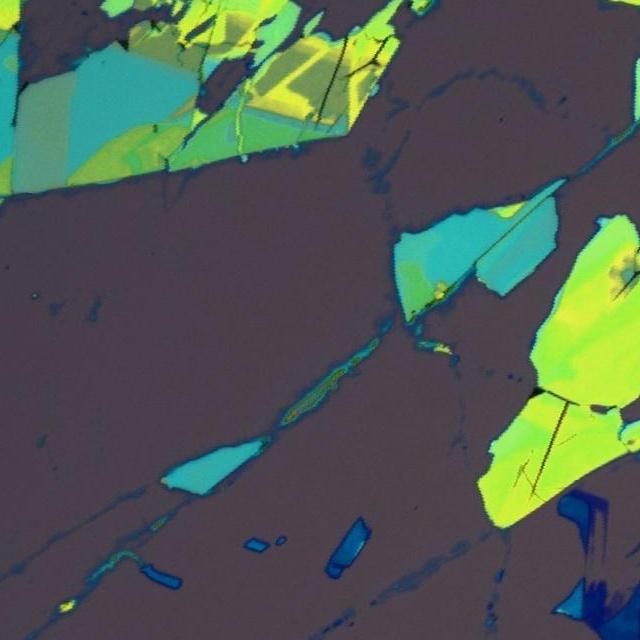monolayer-eWW4: (608, 588, 624, 612)
